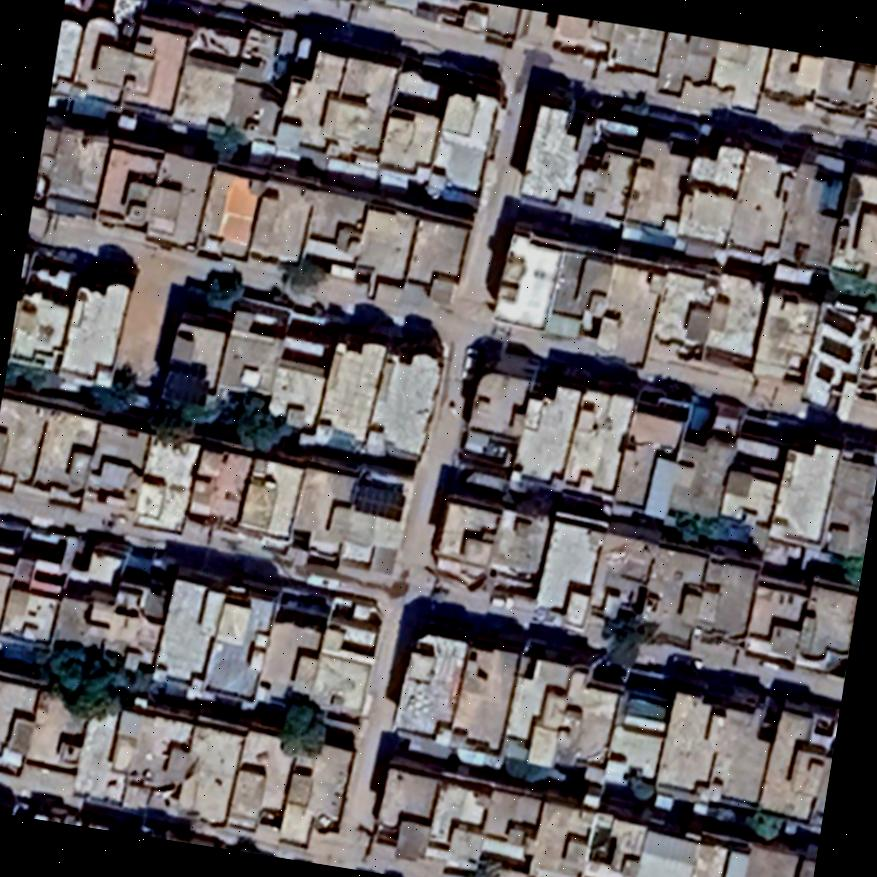Solarpanel: (347, 475, 408, 526), (154, 364, 212, 408), (814, 305, 860, 341), (817, 332, 856, 365), (810, 358, 839, 389)
